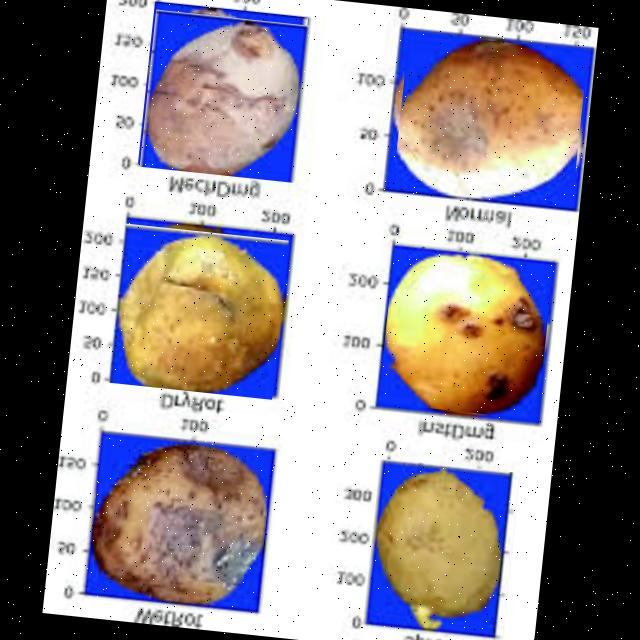Defected potato: (138, 1, 308, 180), (139, 9, 309, 182)
Diseased-fungal potato: (85, 434, 273, 615), (109, 223, 288, 399), (378, 243, 554, 420)
Potato: (392, 32, 588, 212)
Sprouted potato: (362, 458, 519, 640)
